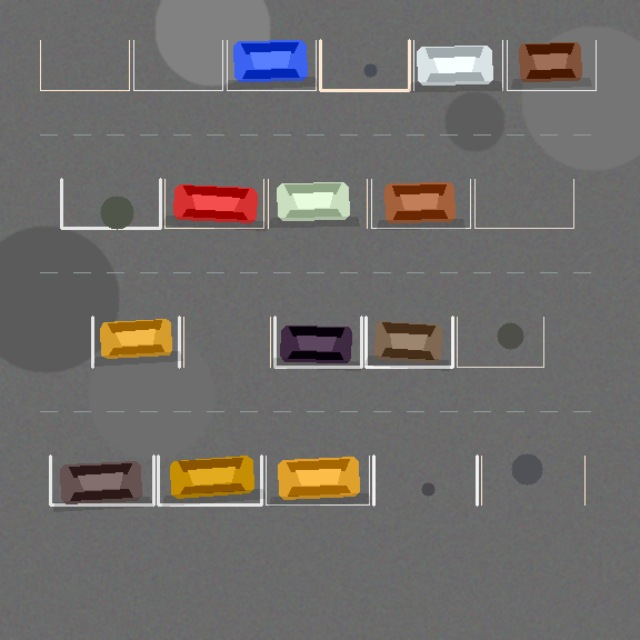space-empty: (373, 456, 477, 504), (481, 456, 584, 504), (61, 179, 160, 228), (474, 179, 573, 228), (40, 40, 129, 90), (133, 40, 222, 90), (320, 40, 409, 90), (183, 317, 270, 367), (457, 317, 543, 367)
space-occupied: (50, 456, 153, 504), (158, 456, 261, 504), (266, 456, 369, 504), (164, 179, 263, 228), (268, 179, 367, 228), (371, 179, 470, 228), (227, 40, 316, 90), (413, 40, 502, 90), (507, 40, 596, 90), (92, 317, 179, 367), (274, 317, 361, 367), (366, 317, 452, 367)
